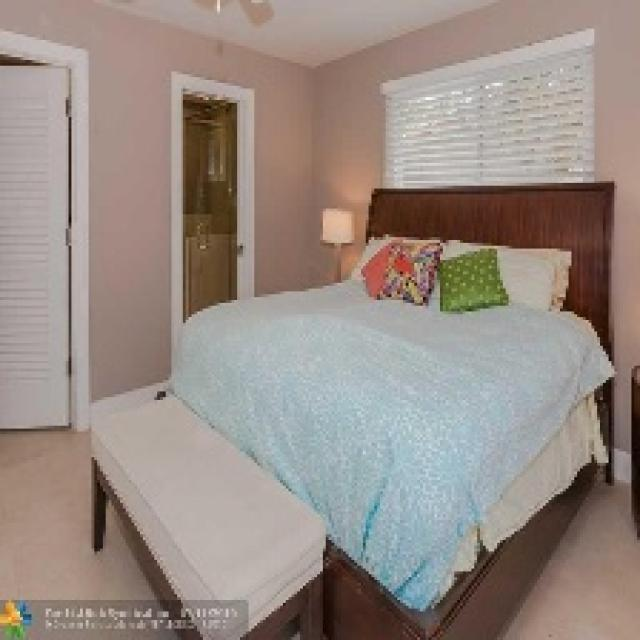Bed: (166, 177, 614, 637)
